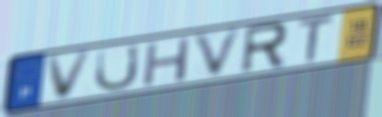H: (140, 35, 194, 89)
R: (238, 20, 290, 76)
T: (296, 12, 337, 66)
U: (92, 42, 142, 93)
V: (190, 24, 247, 82), (45, 48, 96, 103)
